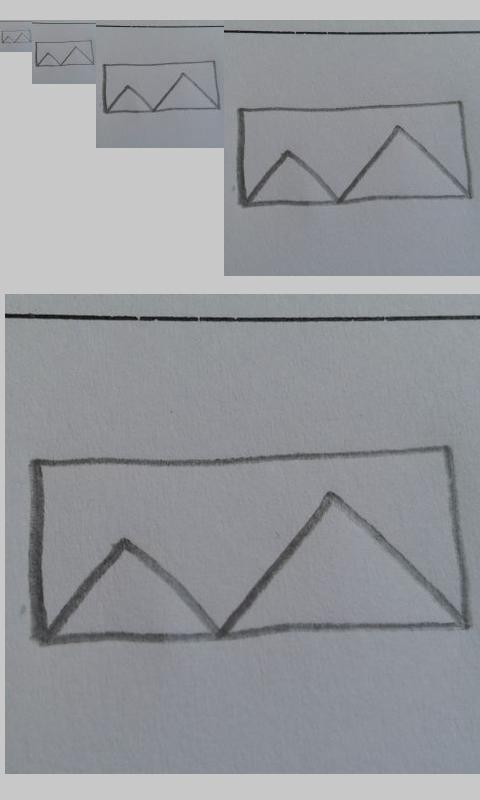image_view: (25, 444, 469, 644), (235, 97, 474, 209), (102, 59, 221, 114), (34, 39, 95, 68), (1, 29, 32, 44)
